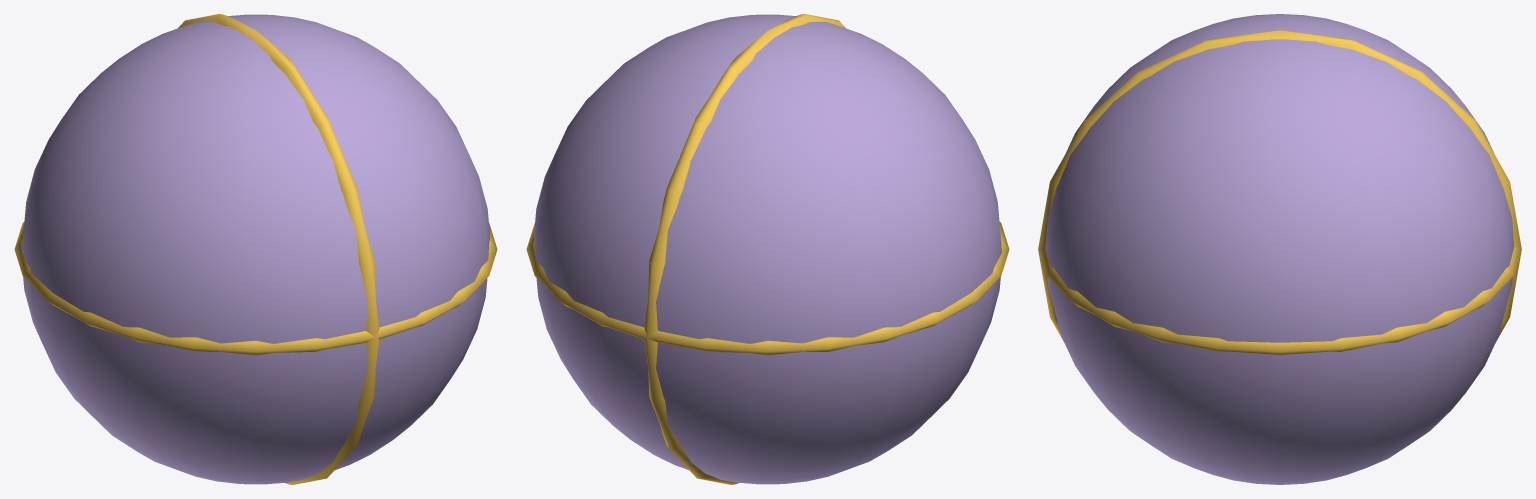
Rendered from PushBall.fbx.
The picture shows the model from 3 angles, left to right: view 1: azimuth 30°, elevation 25°; view 2: azimuth 150°, elevation 25°; view 3: azimuth 270°, elevation 25°; orthographic projection.
Visible parts, largest first — view 1: PushBall; view 2: PushBall; view 3: PushBall.
Part boxes in pixels (x1,y1,x2,y2): PushBall: [14, 14, 497, 484]; PushBall: [526, 14, 1009, 484]; PushBall: [1038, 14, 1521, 484].
Size of the model in its own units: 154 by 154 by 154.
1 material, 1 textured.
